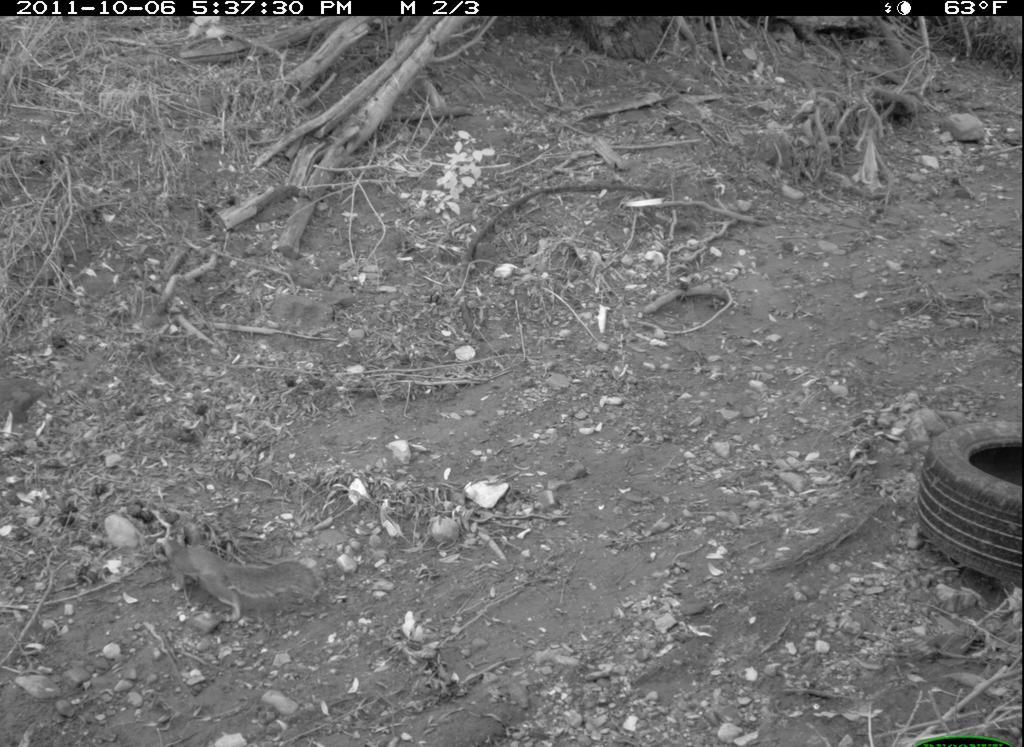squirrel: (152, 520, 333, 630)
